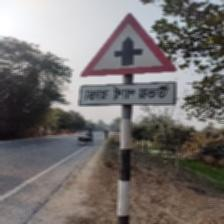Crossroad: (78, 12, 179, 109)
